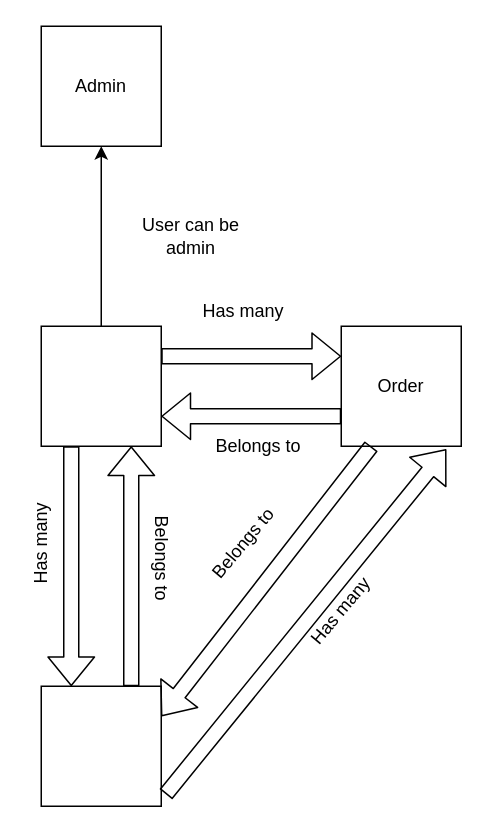
The diagram is 488 pixels wide and 833 high, and some of its shapes have lost their labels. Here are the shapes that lost their labels. From the top down, the centre of each, then its label:
At [100,385]: "User".
At [100,745]: "Listing".
